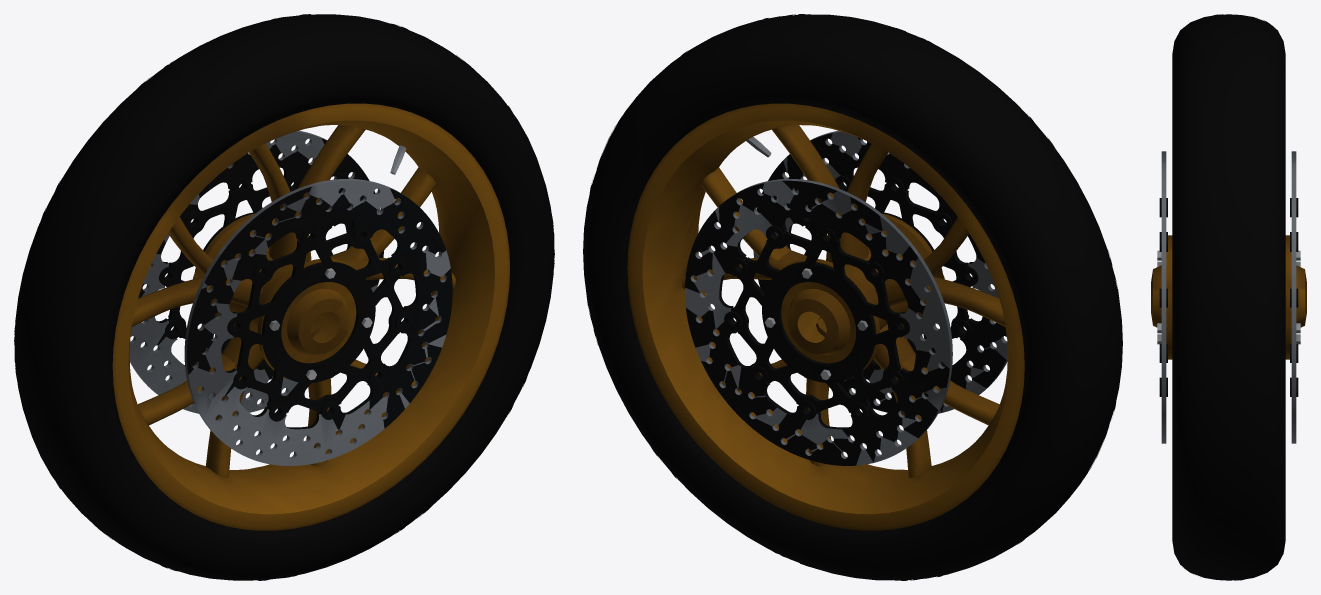
The model's file is bike_stradav4_wheelF.glb.
The picture shows the model from 3 angles, left to right: view 1: azimuth 30°, elevation 25°; view 2: azimuth 150°, elevation 25°; view 3: azimuth 270°, elevation 25°; orthographic projection. The views are drawn at different scales.
Parts seen in each view (by area): view 1: sbs_wheelF_tyre, sbs_wheelF_rim, sbs_wheelF_disc0.069_in, sbs_wheelF_disc0.069, sbs_wheelF_hub, sbs_wheelF_disc-0.069_in, sbs_wheelF_disc-0.069, sbs_wheelF_grooves, sbs_wheelF_sp1_-1, sbs_wheelF_sp2_1, sbs_wheelF_sp3_-1, sbs_wheelF_sp0_1 (+4 smaller); view 2: sbs_wheelF_tyre, sbs_wheelF_rim, sbs_wheelF_disc-0.069_in, sbs_wheelF_disc-0.069, sbs_wheelF_disc0.069_in, sbs_wheelF_hub, sbs_wheelF_grooves, sbs_wheelF_disc0.069, sbs_wheelF_sp1_-1, sbs_wheelF_sp2_1, sbs_wheelF_sp3_-1, sbs_wheelF_sp0_1 (+4 smaller); view 3: sbs_wheelF_tyre, sbs_wheelF_grooves, sbs_wheelF_hub, sbs_wheelF_disc0.069, sbs_wheelF_disc-0.069, sbs_wheelF_disc0.069_in, sbs_wheelF_disc-0.069_in.
Part boxes in pixels (<box>): sbs_wheelF_tyre: <box>14,14,554,580</box>; sbs_wheelF_rim: <box>112,103,510,530</box>; sbs_wheelF_disc0.069_in: <box>187,186,452,429</box>; sbs_wheelF_disc0.069: <box>184,179,450,465</box>; sbs_wheelF_hub: <box>205,213,356,379</box>; sbs_wheelF_disc-0.069_in: <box>138,138,383,379</box>; sbs_wheelF_disc-0.069: <box>129,130,380,413</box>; sbs_wheelF_grooves: <box>14,14,554,580</box>; sbs_wheelF_sp1_-1: <box>297,125,365,203</box>; sbs_wheelF_sp2_1: <box>131,276,214,326</box>; sbs_wheelF_sp3_-1: <box>137,354,235,425</box>; sbs_wheelF_sp0_1: <box>346,167,436,261</box>; sbs_wheelF_tyre: <box>583,14,1122,580</box>; sbs_wheelF_rim: <box>627,103,1024,530</box>; sbs_wheelF_disc-0.069_in: <box>685,180,949,465</box>; sbs_wheelF_disc-0.069: <box>685,179,952,465</box>; sbs_wheelF_disc0.069_in: <box>756,133,1006,412</box>; sbs_wheelF_hub: <box>780,213,932,378</box>; sbs_wheelF_grooves: <box>587,14,1119,580</box>; sbs_wheelF_disc0.069: <box>753,130,1007,413</box>; sbs_wheelF_sp1_-1: <box>772,125,839,202</box>; sbs_wheelF_sp2_1: <box>922,276,1005,326</box>; sbs_wheelF_sp3_-1: <box>902,354,999,425</box>; sbs_wheelF_sp0_1: <box>701,167,791,261</box>; sbs_wheelF_tyre: <box>1172,14,1285,580</box>; sbs_wheelF_grooves: <box>1182,14,1275,580</box>; sbs_wheelF_hub: <box>1151,235,1306,359</box>; sbs_wheelF_disc0.069: <box>1161,151,1166,443</box>; sbs_wheelF_disc-0.069: <box>1291,151,1296,443</box>; sbs_wheelF_disc0.069_in: <box>1159,198,1167,396</box>; sbs_wheelF_disc-0.069_in: <box>1290,198,1298,396</box>.
Size of the model in its own units: 0.6008 by 0.6 by 0.165.
